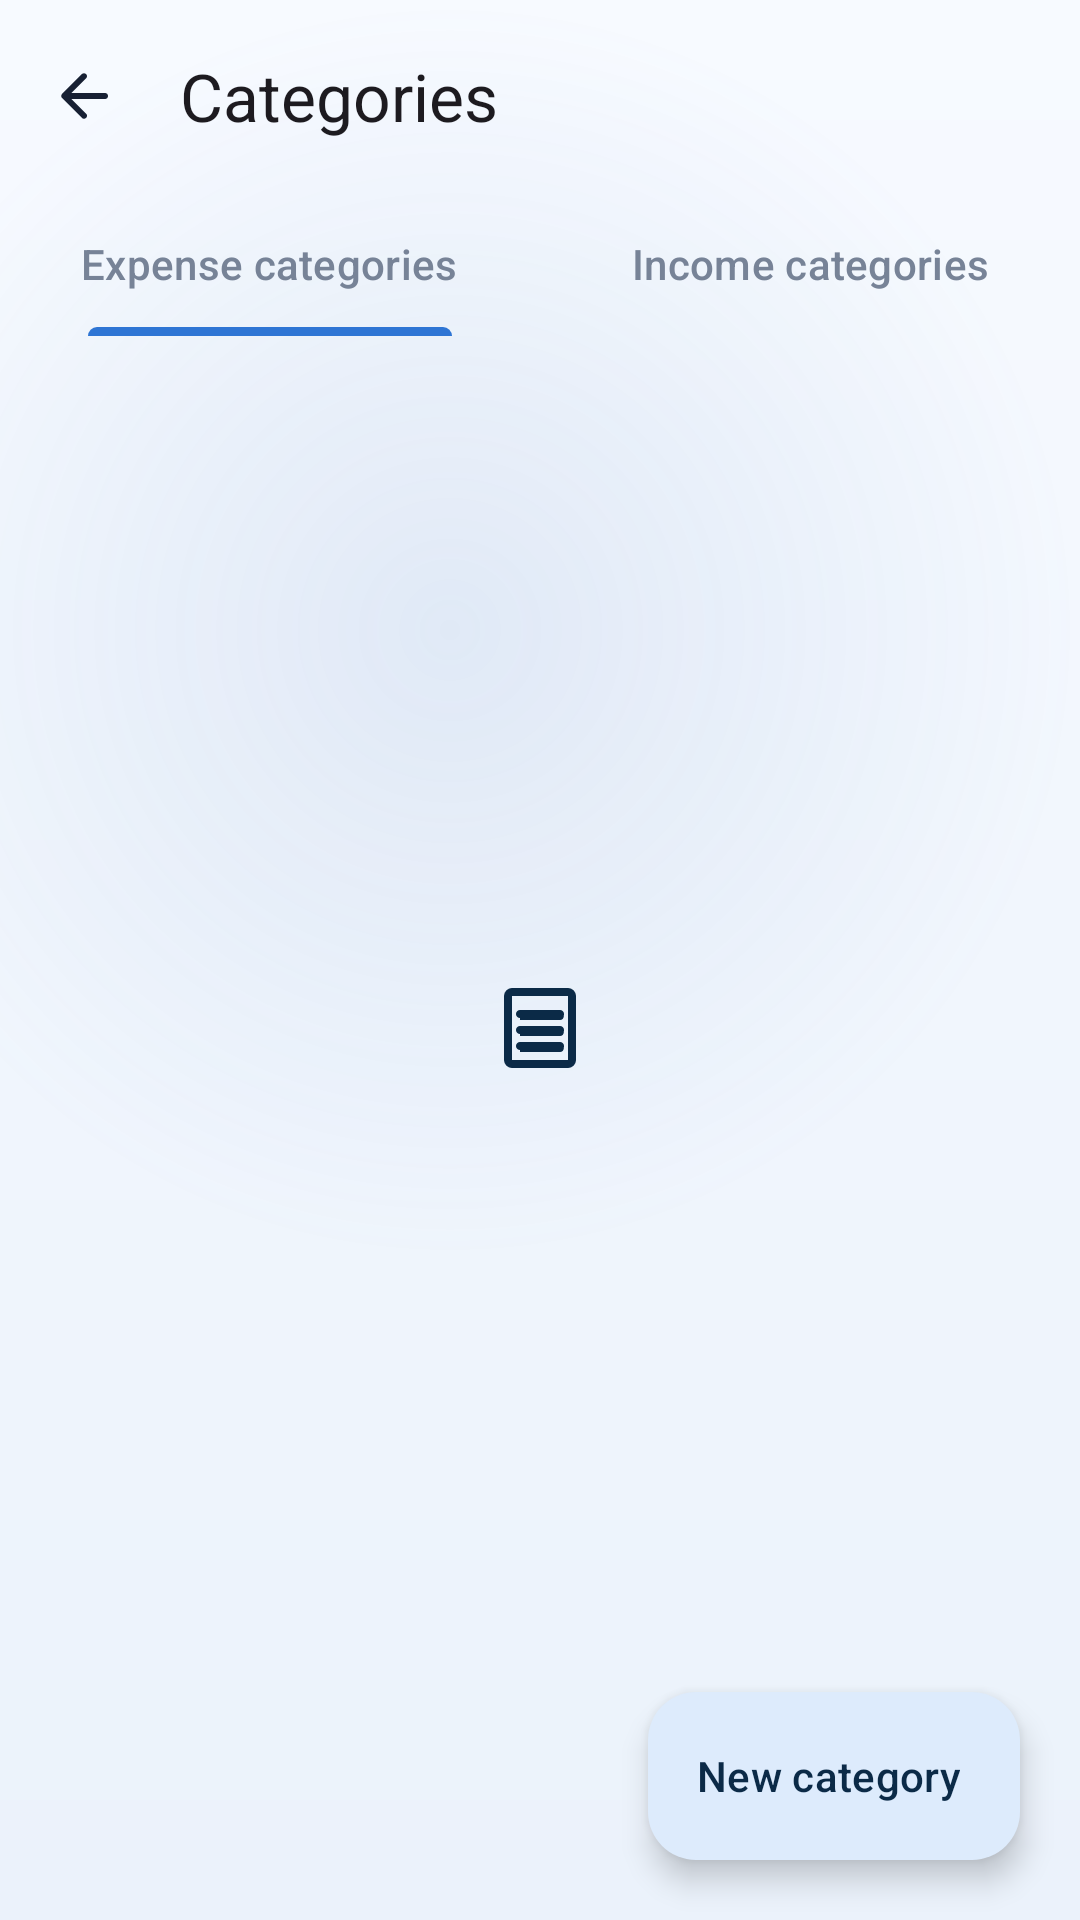

Point at icon controls on the screen. Image size 1080×1920, points as (x=x, y=y).
transactions: (x=540, y=1028)
